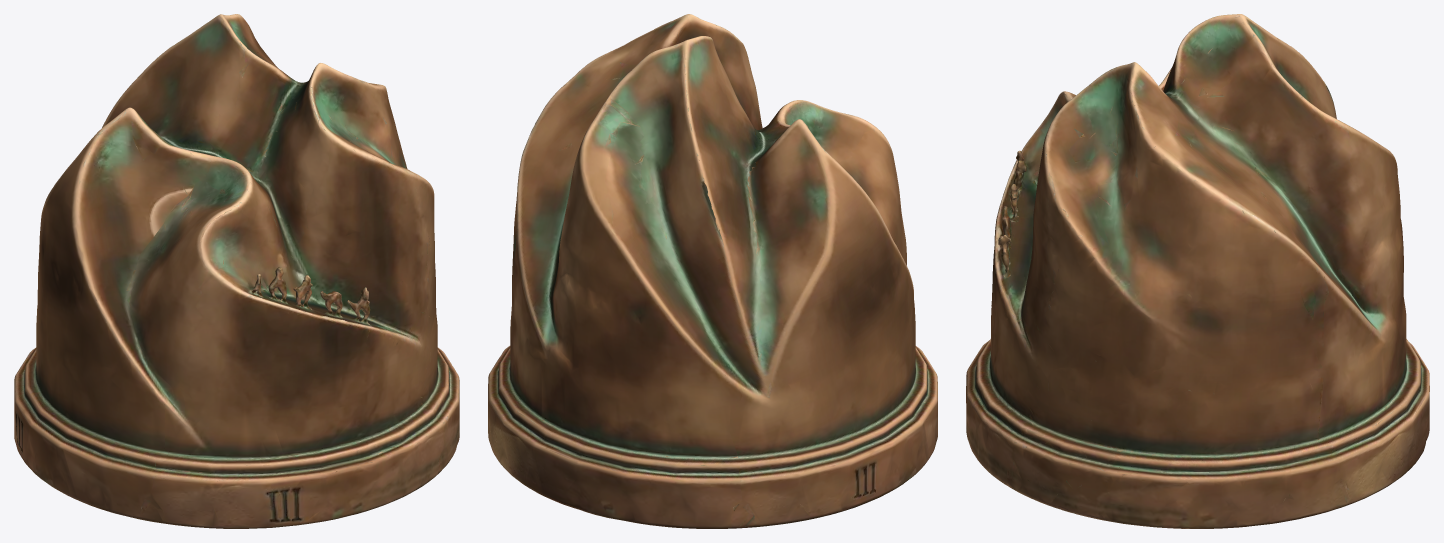
File: erg_chebbi.glb
The picture shows the model from 3 angles, left to right: view 1: azimuth 30°, elevation 25°; view 2: azimuth 150°, elevation 25°; view 3: azimuth 270°, elevation 25°; orthographic projection. The views are drawn at different scales.
Visible parts, largest first — view 1: Mesh_0; view 2: Mesh_0; view 3: Mesh_0.
Boxes of the visible parts, box(x1,y1,x2,y2) form: Mesh_0: box(14, 14, 459, 528); Mesh_0: box(488, 14, 937, 528); Mesh_0: box(966, 14, 1429, 528).
Bounding box in the file's own units: 1.91 × 1.91 × 1.91.
1 material, 1 textured.
